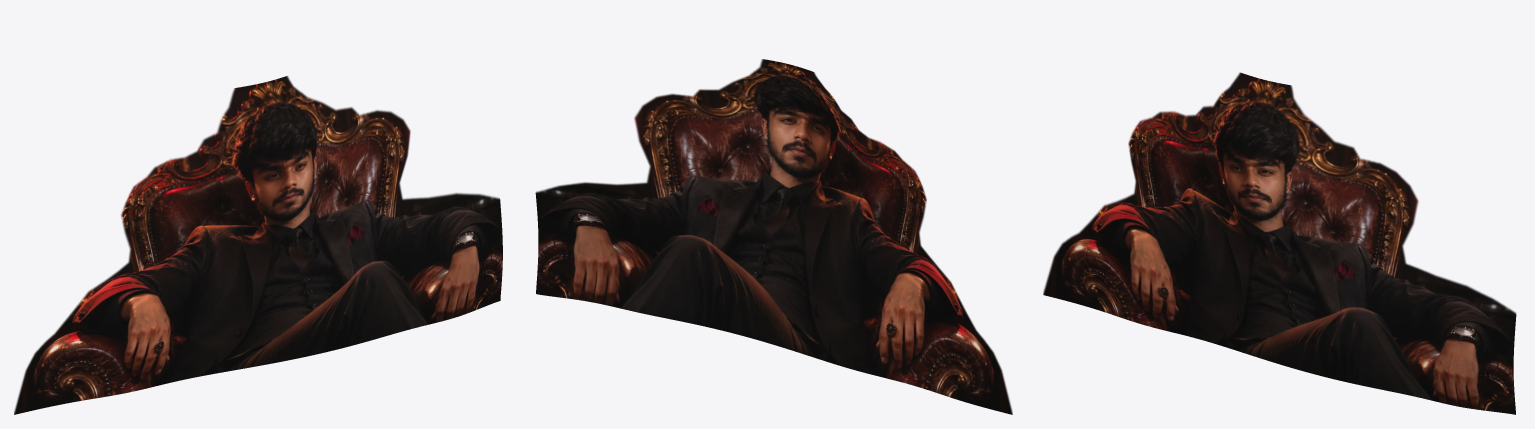
Rendered from living_throne.glb.
3 views of the same model, side by side, from view 1: azimuth 30°, elevation 25°; view 2: azimuth 150°, elevation 25°; view 3: azimuth 330°, elevation 25° (orthographic).
Parts seen in each view (by area): view 1: Seated person and throne (2.5D animated relief); view 2: Seated person and throne (2.5D animated relief); view 3: Seated person and throne (2.5D animated relief).
Boxes of the visible parts, bbox=[...] form: Seated person and throne (2.5D animated relief): bbox=[14, 76, 502, 414]; Seated person and throne (2.5D animated relief): bbox=[535, 59, 1012, 414]; Seated person and throne (2.5D animated relief): bbox=[1043, 72, 1516, 414].
Size of the model in its own units: 4.8 by 2.7 by 0.5738.
Materials: 1 (1 with a texture image).
